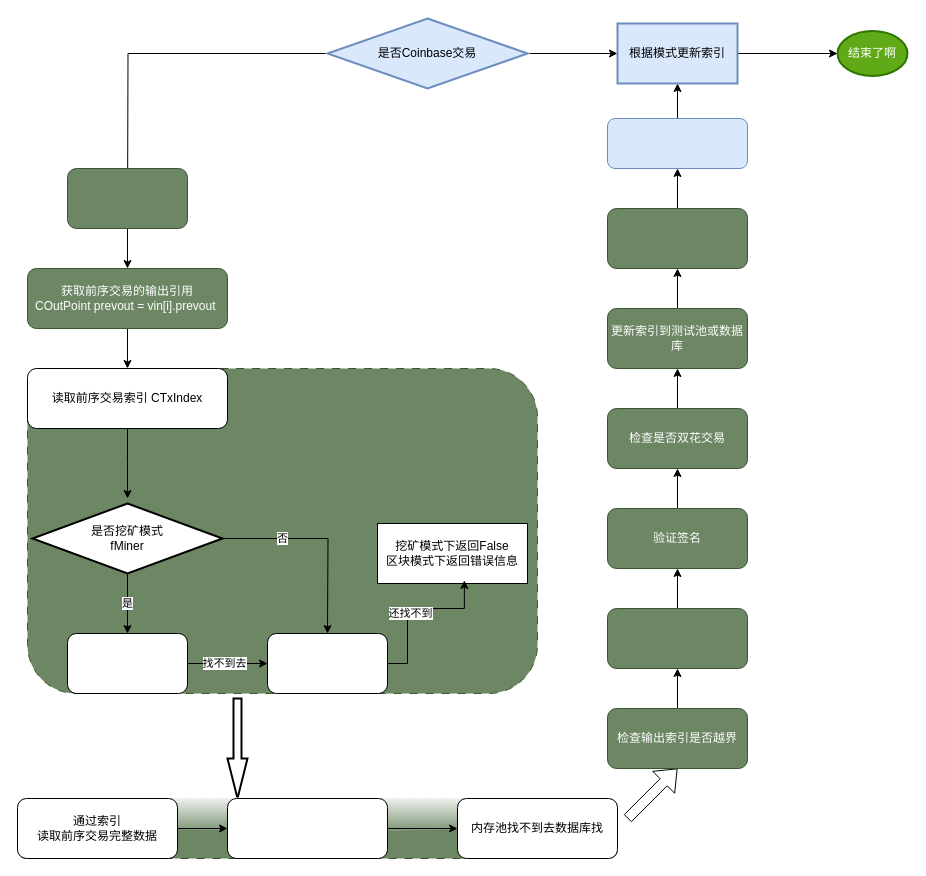
The diagram is 926 pixels wide and 876 high, and some of its shapes have lost their labels. The shapes that lost their labels are listed below. From the top down, each one's centre as x and y in pixels, then its label:
(x=677, y=143): 遍历完成 检查总手续费是否达标
(x=127, y=198): 遍历所有vin[i]
(x=677, y=238): 累加输入金额
(x=677, y=638): 如果是Coinbas交易 需要检查成熟度
(x=127, y=663): 从测试池中寻找
(x=327, y=663): 从数据库中寻找
(x=307, y=828): 测试池找不到去内存池找
